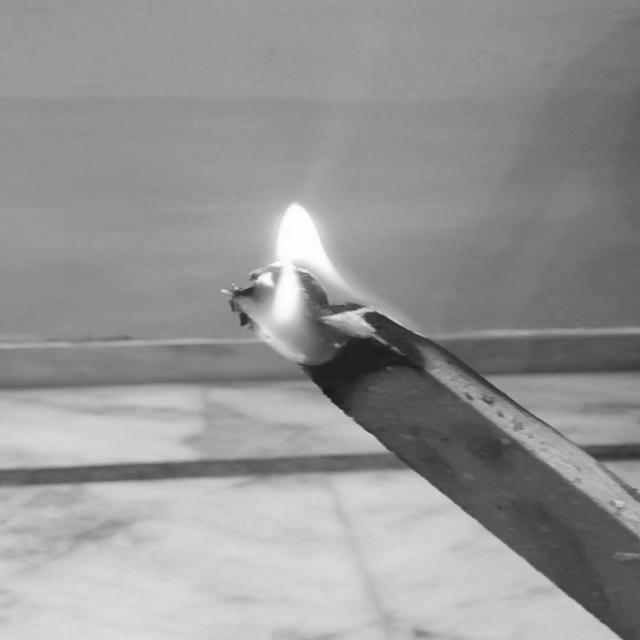smoke: (227, 194, 412, 375)
